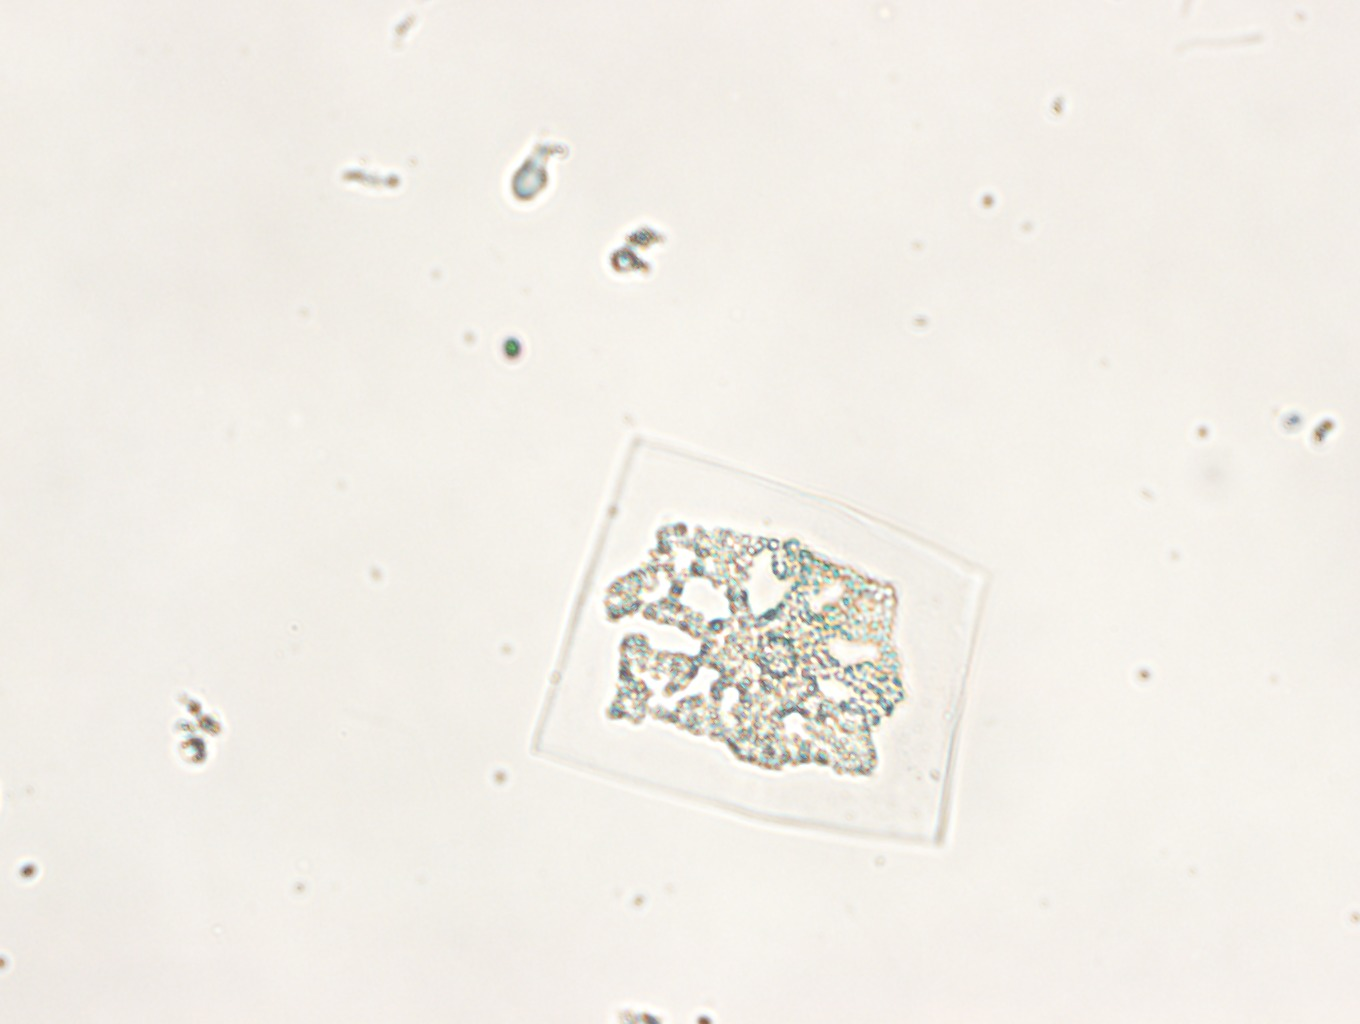helicotheca: (533, 436, 991, 847)
